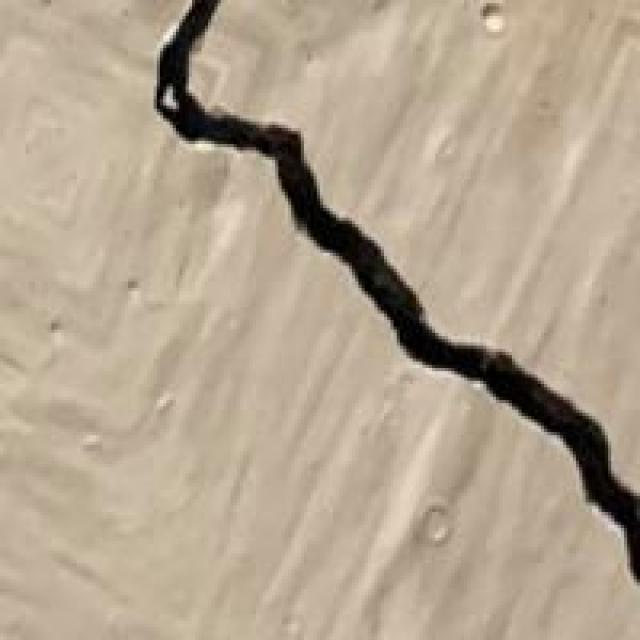Crack: (147, 0, 636, 566)
